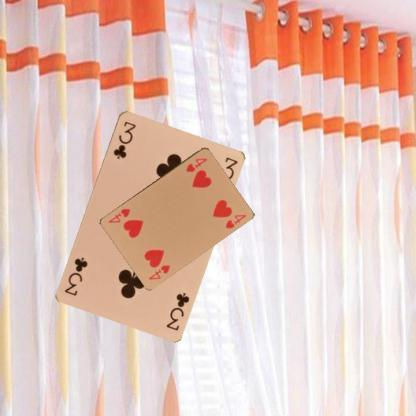3c: (110, 118, 137, 160), (164, 289, 190, 332)
4h: (183, 154, 209, 173), (146, 262, 172, 281)
